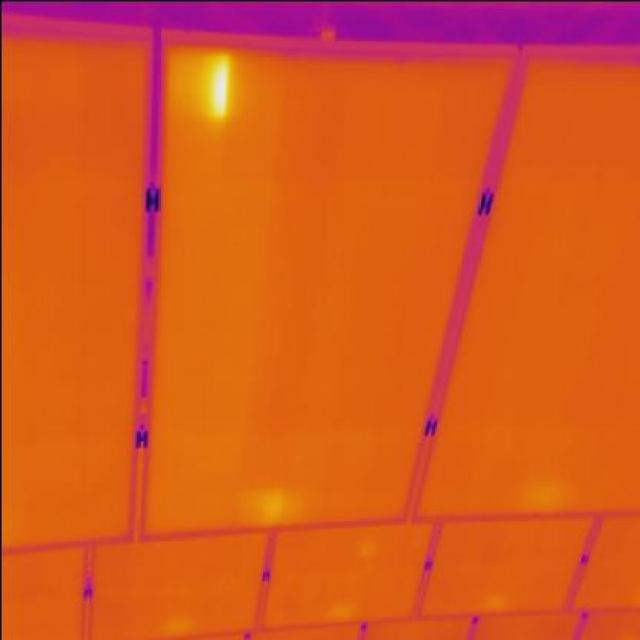hotspot: (161, 39, 234, 122)
